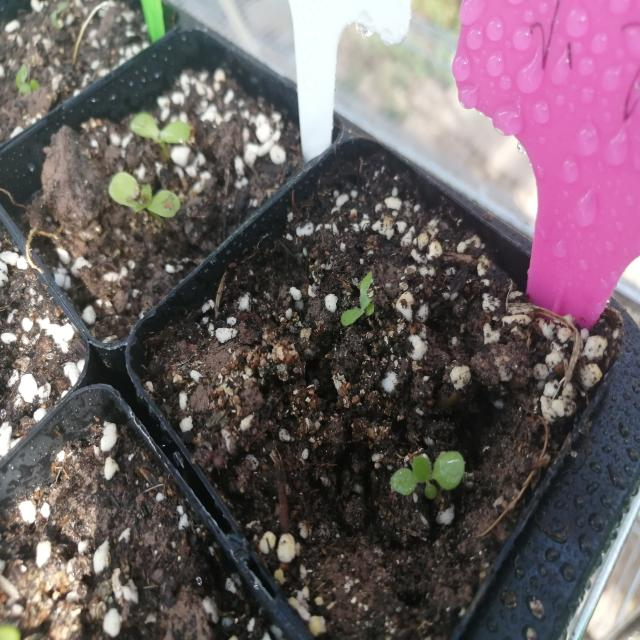field_thistle: (385, 444, 477, 517), (332, 268, 398, 354), (104, 170, 184, 229), (130, 107, 188, 167)
